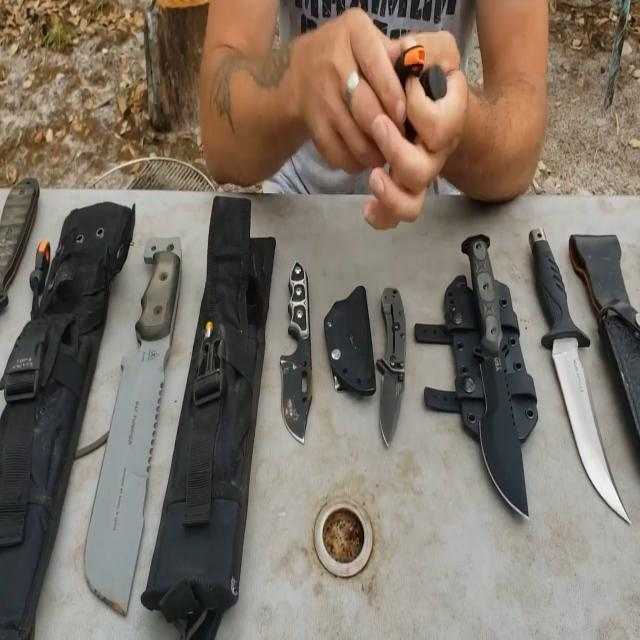knife: (58, 215, 192, 611), (524, 197, 633, 528), (452, 211, 538, 519), (268, 250, 323, 446), (368, 276, 411, 450)
